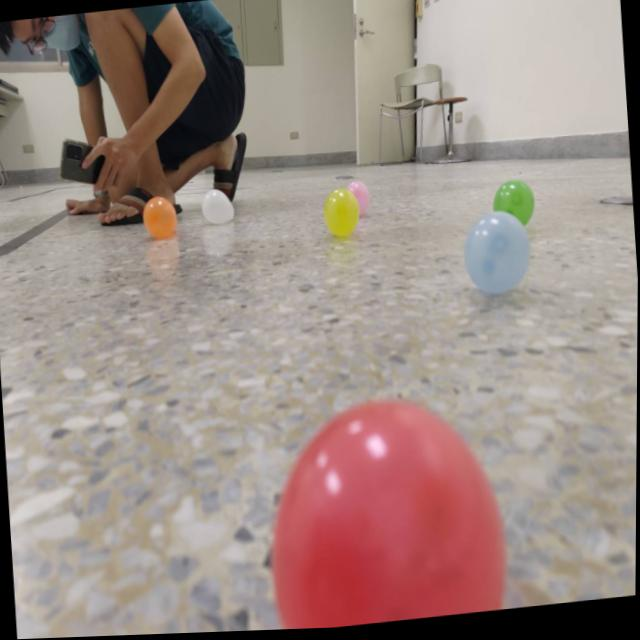other: (462, 210, 534, 300), (491, 181, 536, 232), (322, 190, 361, 242), (142, 194, 181, 240), (200, 187, 238, 227), (347, 181, 372, 218)
red: (262, 388, 513, 632)
